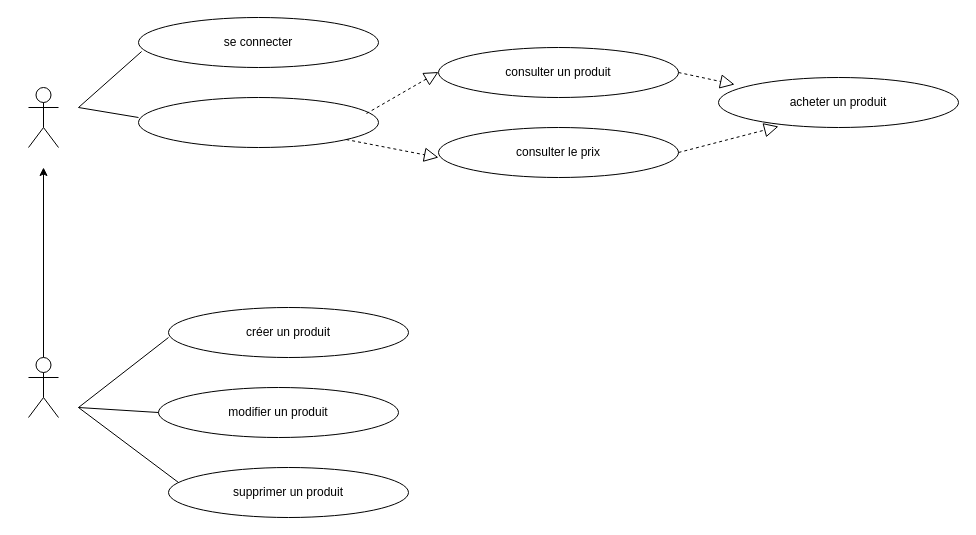
Image size: 976x535. Some labels were removed from this diagram. The centre of each missing label's shape, as x and y in pixels:
"admin" belongs at point 43,387.
"internaute" belongs at point 43,117.
"rechercher un produit" belongs at point 258,122.
